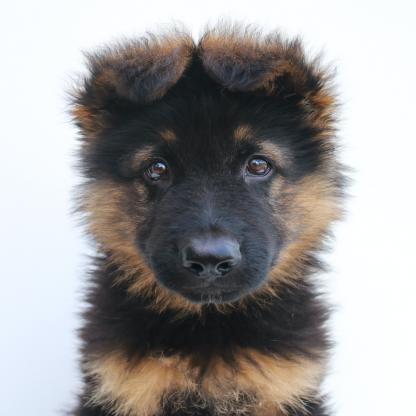german shepherd: (61, 28, 343, 416)
